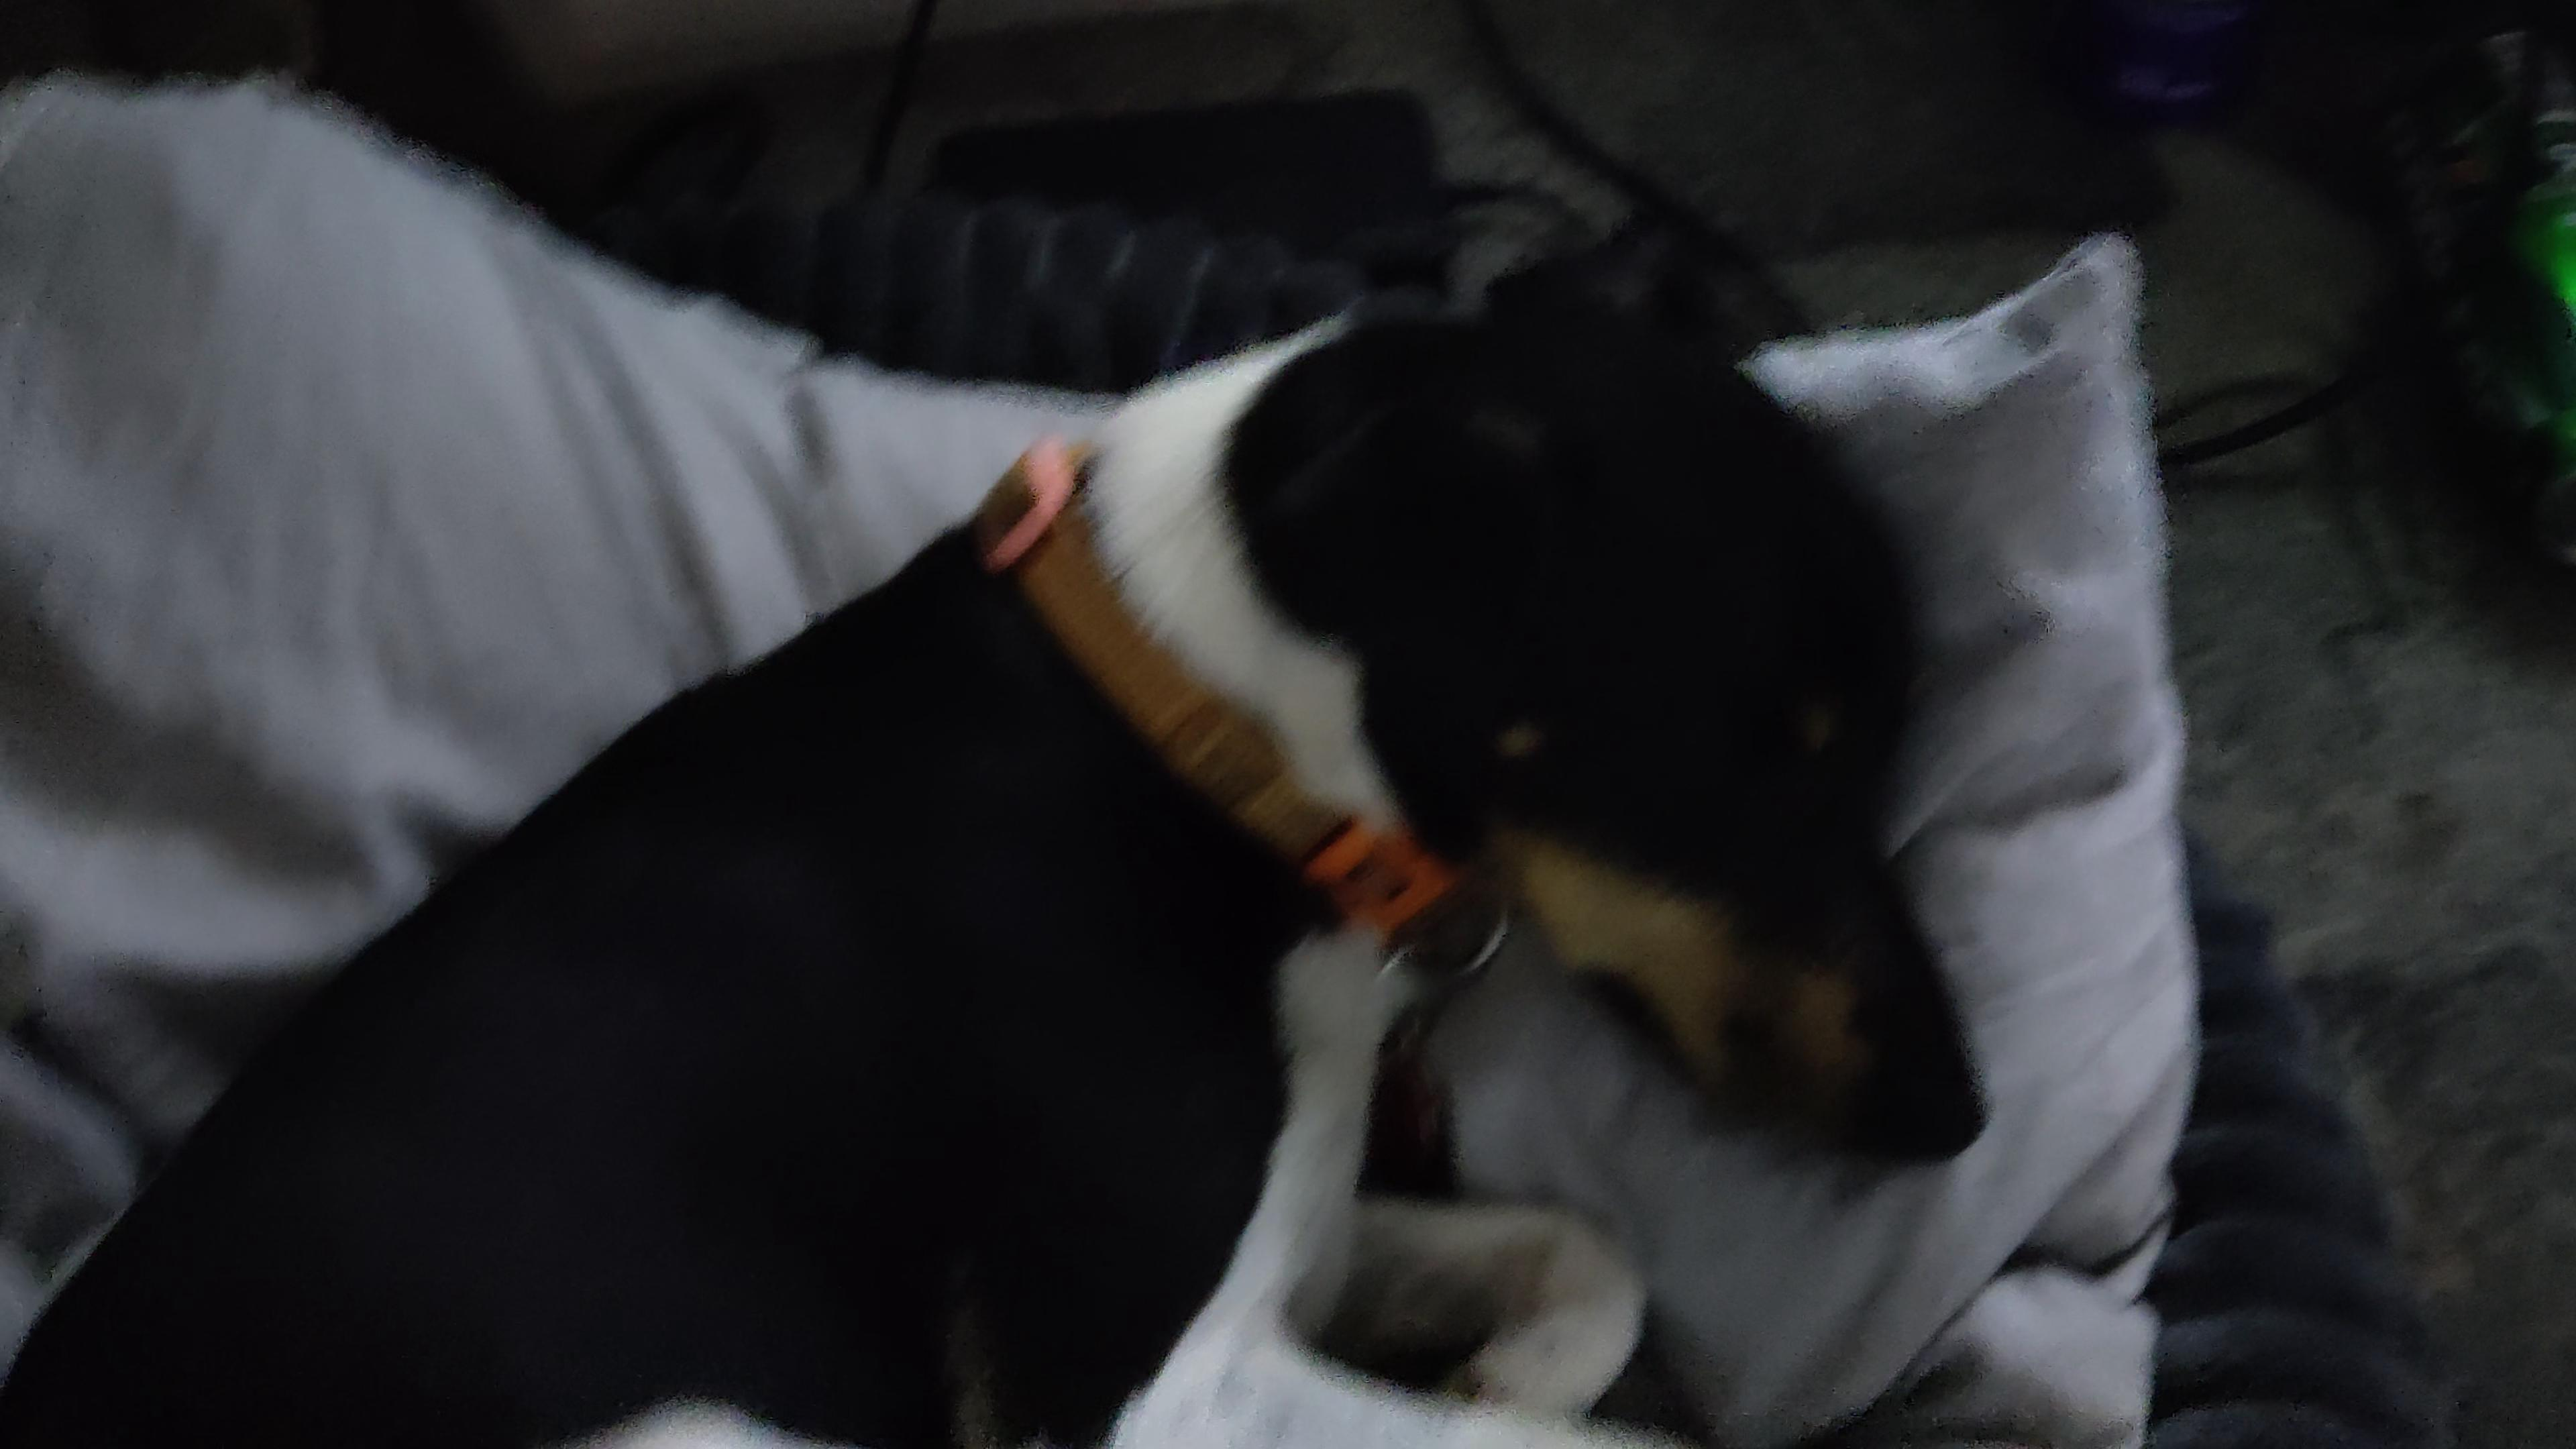Dog: (0, 211, 2013, 1449)
